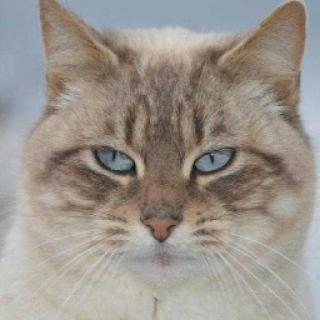cat: (23, 0, 310, 294)
nose: (136, 190, 188, 246)
